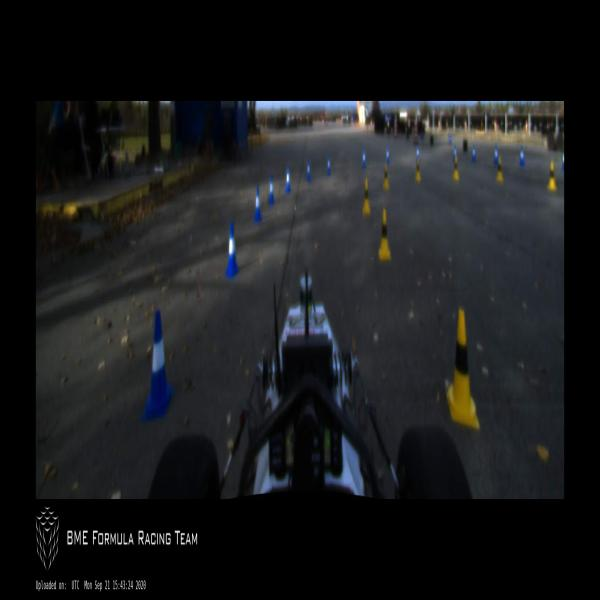blue_cone: (141, 310, 175, 422), (226, 221, 240, 279), (253, 186, 262, 221), (268, 174, 275, 205), (285, 167, 291, 193), (306, 159, 311, 181), (520, 146, 525, 166), (362, 150, 366, 168), (494, 146, 498, 164), (472, 146, 476, 162), (416, 146, 420, 162), (386, 147, 390, 162), (327, 157, 330, 175), (454, 146, 457, 162), (562, 152, 564, 170)
yellow_cone: (445, 308, 480, 430), (378, 208, 391, 262), (362, 178, 371, 216), (548, 159, 557, 191), (382, 162, 390, 190), (452, 155, 460, 181), (496, 156, 503, 182), (415, 159, 421, 182)
